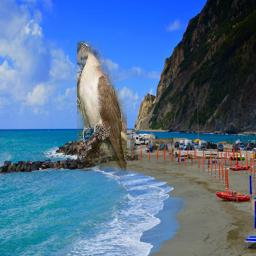Cuckoo: (77, 41, 127, 171)
